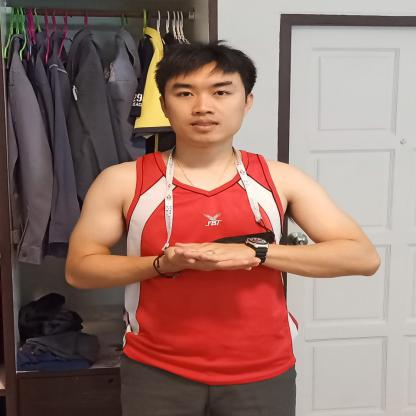Love: (88, 224, 311, 297)
